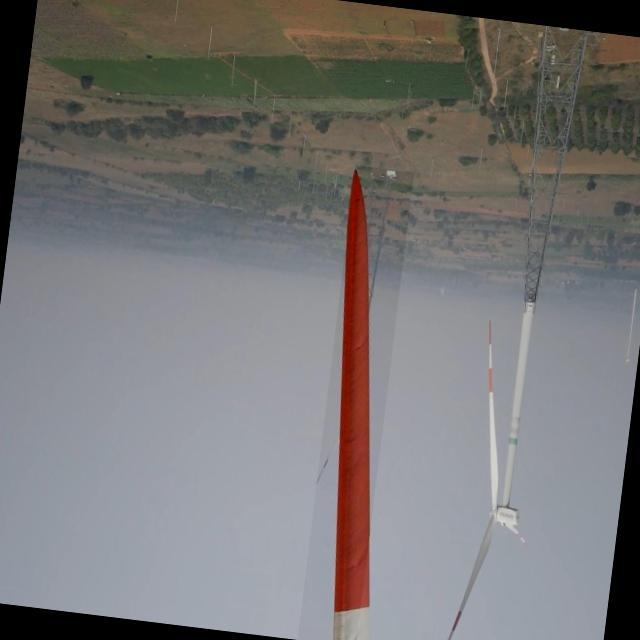Dirt: (335, 166, 371, 640)
